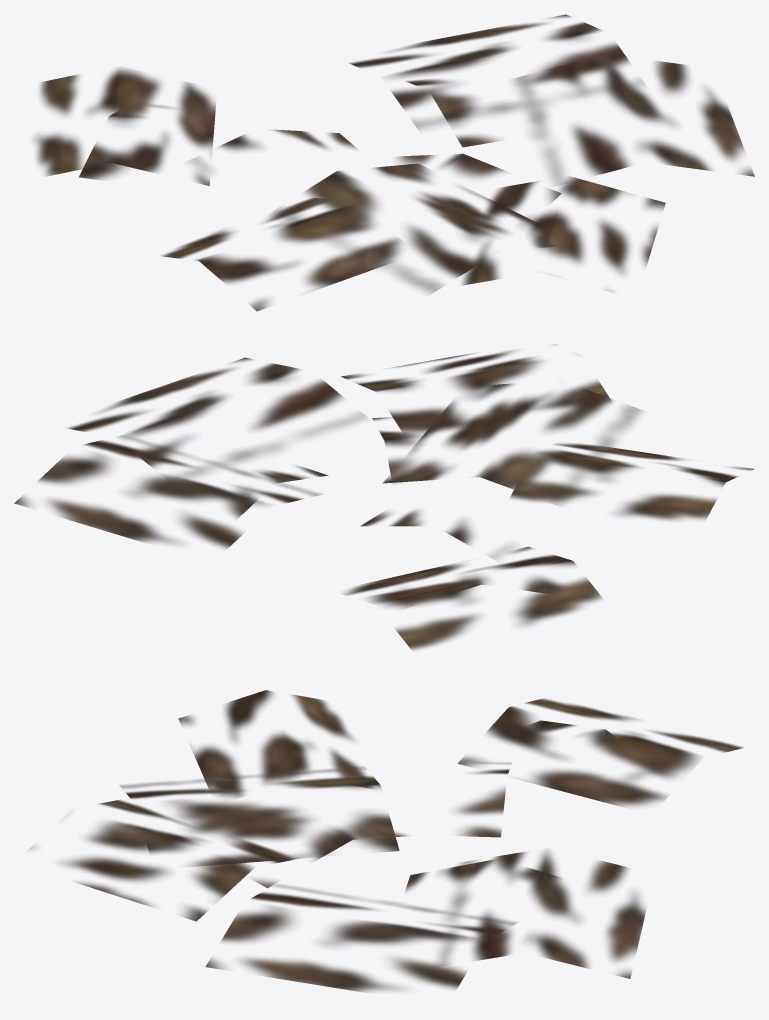
The model's file is la-kho-roi.glb.
3 views of the same model, one above another, from view 1: azimuth 30°, elevation 25°; view 2: azimuth 150°, elevation 25°; view 3: azimuth 270°, elevation 25° (orthographic). The views are drawn at different scales.
Parts seen in each view (by area): view 1: leaf0; view 2: leaf0; view 3: leaf0.
Boxes of the visible parts, left/top/right/bottom form: leaf0: left=33, top=14, right=754, bottom=311; leaf0: left=14, top=344, right=754, bottom=650; leaf0: left=29, top=690, right=743, bottom=992.
Size of the model in its own units: 0.6175 by 0.02 by 0.6196.
1 material, 1 textured.
